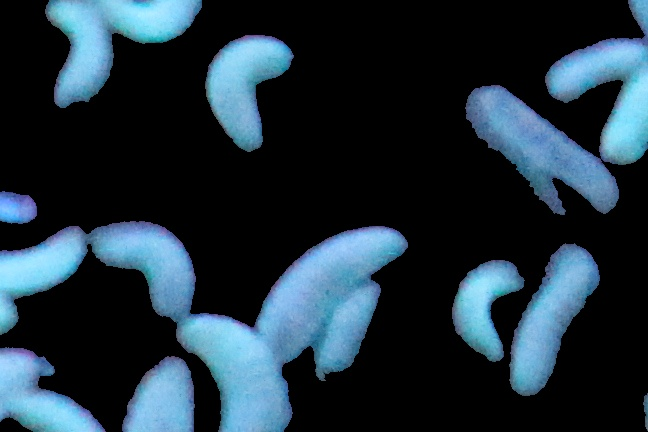larvae: (466, 93, 637, 222), (262, 226, 407, 358), (178, 314, 293, 432), (512, 251, 599, 406), (201, 39, 301, 154), (95, 218, 193, 314), (45, 1, 118, 116), (538, 34, 648, 98), (316, 276, 380, 383), (451, 266, 518, 360), (1, 224, 87, 295), (125, 358, 199, 432), (602, 72, 648, 171), (11, 386, 104, 432), (101, 1, 203, 42)
